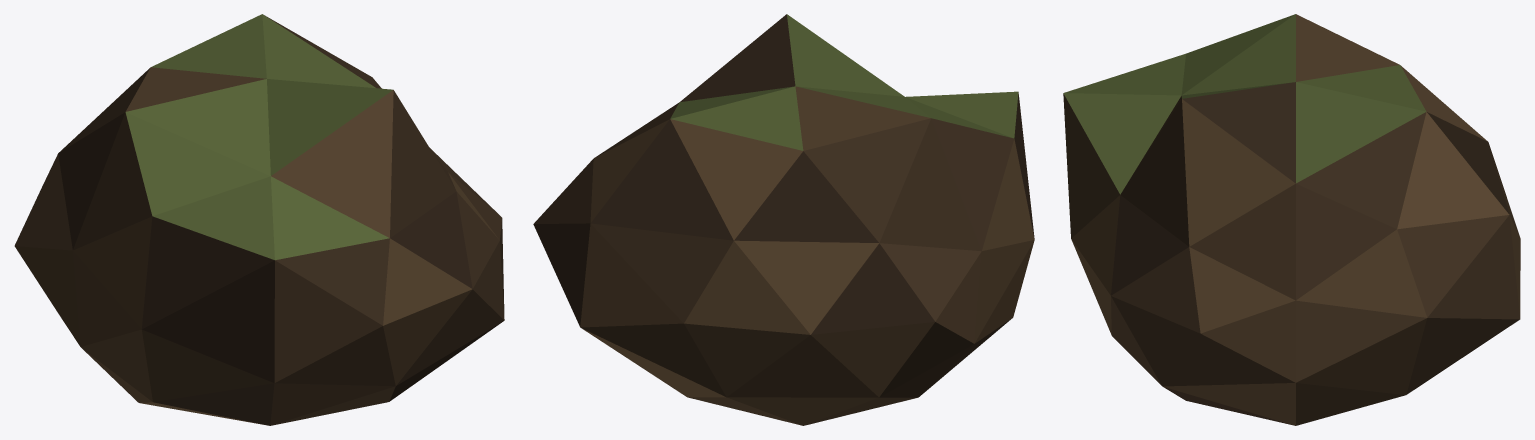
File: clod.glb
3 renders of one model, left to right at view 1: azimuth 30°, elevation 25°; view 2: azimuth 150°, elevation 25°; view 3: azimuth 270°, elevation 25°, orthographic. The views are drawn at different scales.
Parts seen in each view (by area): view 1: clod; view 2: clod; view 3: clod.
Part boxes in pixels (<box>): clod: <box>14,14,504,425</box>; clod: <box>533,14,1034,425</box>; clod: <box>1063,14,1520,425</box>.
Bounding box in the file's own units: 0.2806 × 0.1997 × 0.2645.
